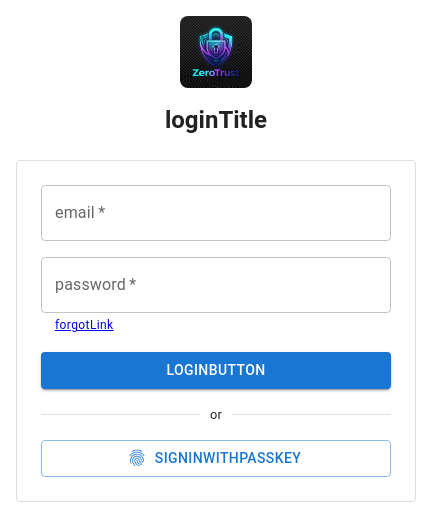
Test case: LoginPage component › handlePasswordlessLogin: sets retryAfter on rate_limit_exceeded
The width and height of the screenshot is (433, 519).
Click the button "signInWithPasskey": (216, 458) [41,440,391,476]
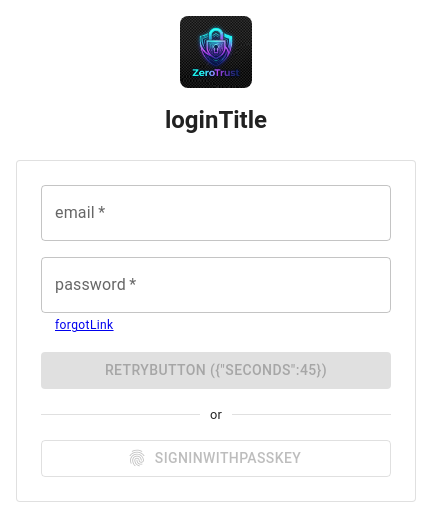
Expected: the button "retryButton ({\"seconds\":45})" is shown, [41,352,391,389]
